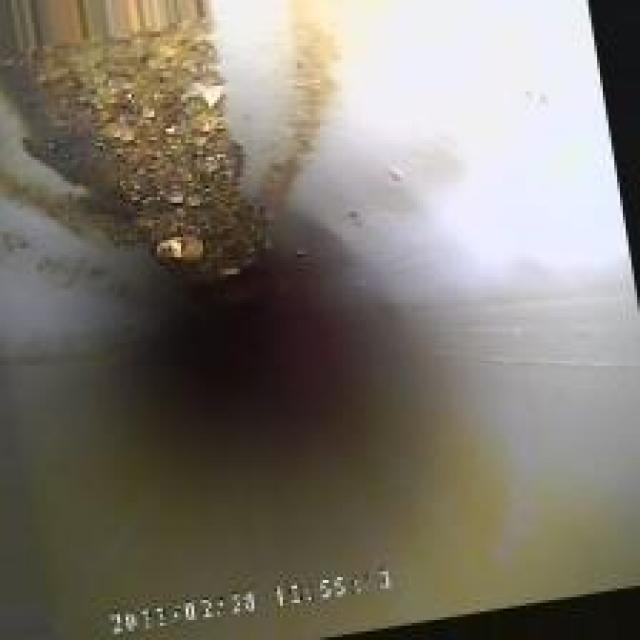stone: (100, 80, 237, 266)
